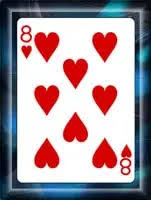eight of hearts: (17, 17, 135, 183)
